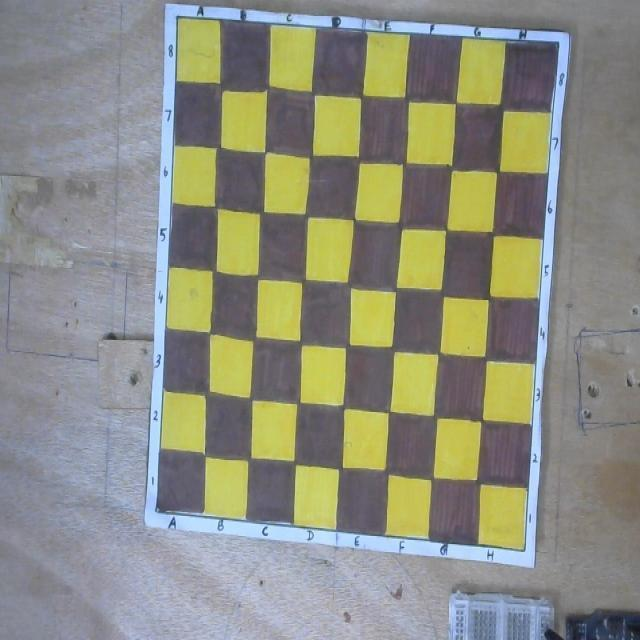chess-table-corners: (154, 506, 160, 514), (175, 14, 180, 22), (523, 546, 527, 554), (557, 39, 560, 47)
